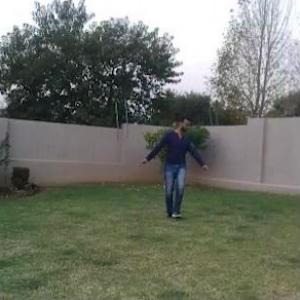land: (141, 103, 218, 226)
